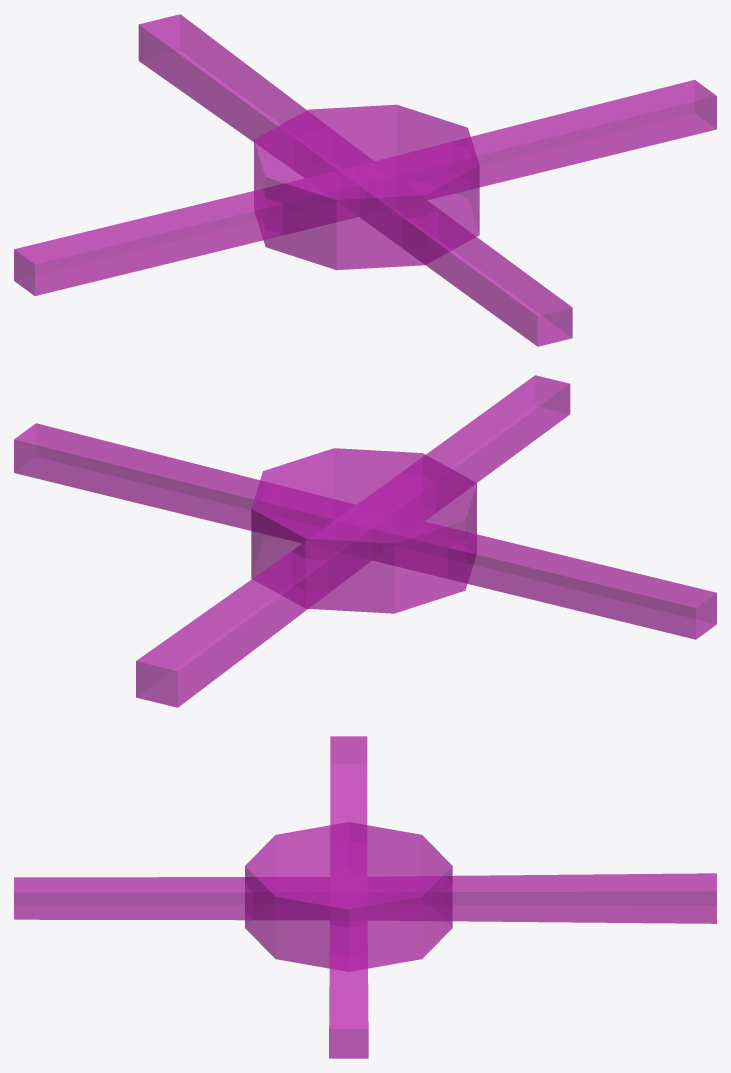
The model's file is SM_Veh_Capstan_02_Wheel_01_Collision.fbx.
3 views of the same model, one above another, from view 1: azimuth 30°, elevation 25°; view 2: azimuth 150°, elevation 25°; view 3: azimuth 270°, elevation 25° (orthographic). The views are drawn at different scales.
Visible parts, largest first — view 1: SM_Veh_Capstan_02_Wheel_01_Collision; view 2: SM_Veh_Capstan_02_Wheel_01_Collision; view 3: SM_Veh_Capstan_02_Wheel_01_Collision.
Part boxes in pixels (x1,y1,x2,y2): SM_Veh_Capstan_02_Wheel_01_Collision: (14,14,716,346); SM_Veh_Capstan_02_Wheel_01_Collision: (14,375,716,707); SM_Veh_Capstan_02_Wheel_01_Collision: (14,736,716,1058).
Size of the model in its own units: 292 by 28.71 by 294.
